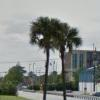Palm tree: (29, 13, 88, 100)
